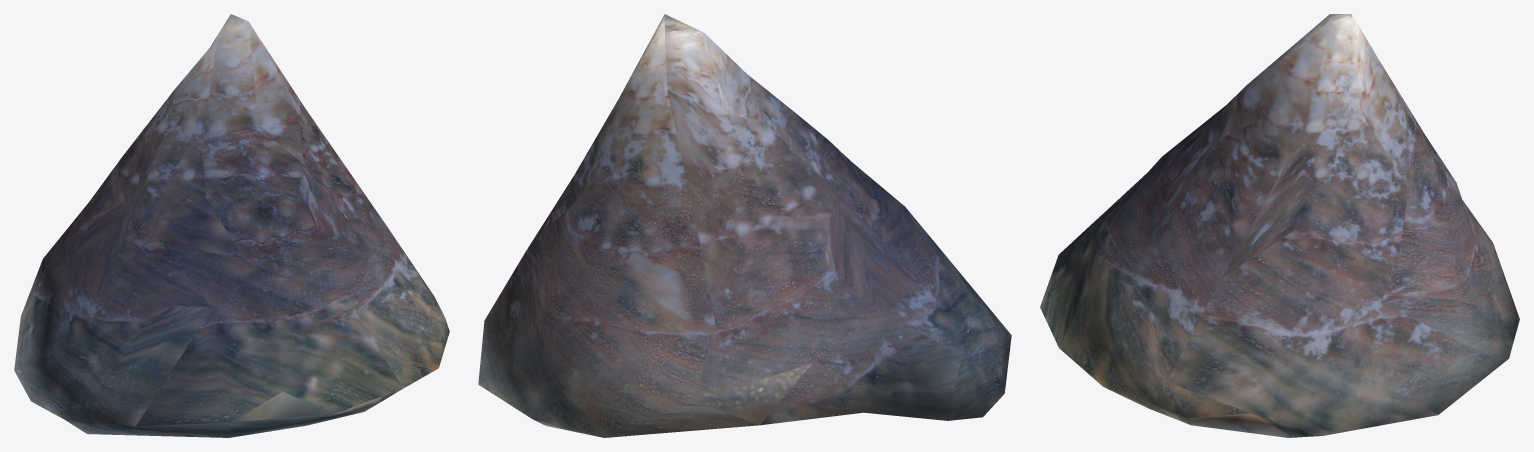
File: SM_Seashell_10_LOD2.fbx
The picture shows the model from 3 angles, left to right: view 1: azimuth 30°, elevation 25°; view 2: azimuth 150°, elevation 25°; view 3: azimuth 270°, elevation 25°; orthographic projection. The views are drawn at different scales.
Parts seen in each view (by area): view 1: SM_Seashell_10_LOD2; view 2: SM_Seashell_10_LOD2; view 3: SM_Seashell_10_LOD2.
Boxes of the visible parts, bbox=[...] form: SM_Seashell_10_LOD2: bbox=[14, 14, 449, 437]; SM_Seashell_10_LOD2: bbox=[478, 14, 1011, 437]; SM_Seashell_10_LOD2: bbox=[1040, 14, 1519, 437].
Bounding box in the file's own units: 10.48 × 8.5 × 10.08.
1 material, 1 textured.
